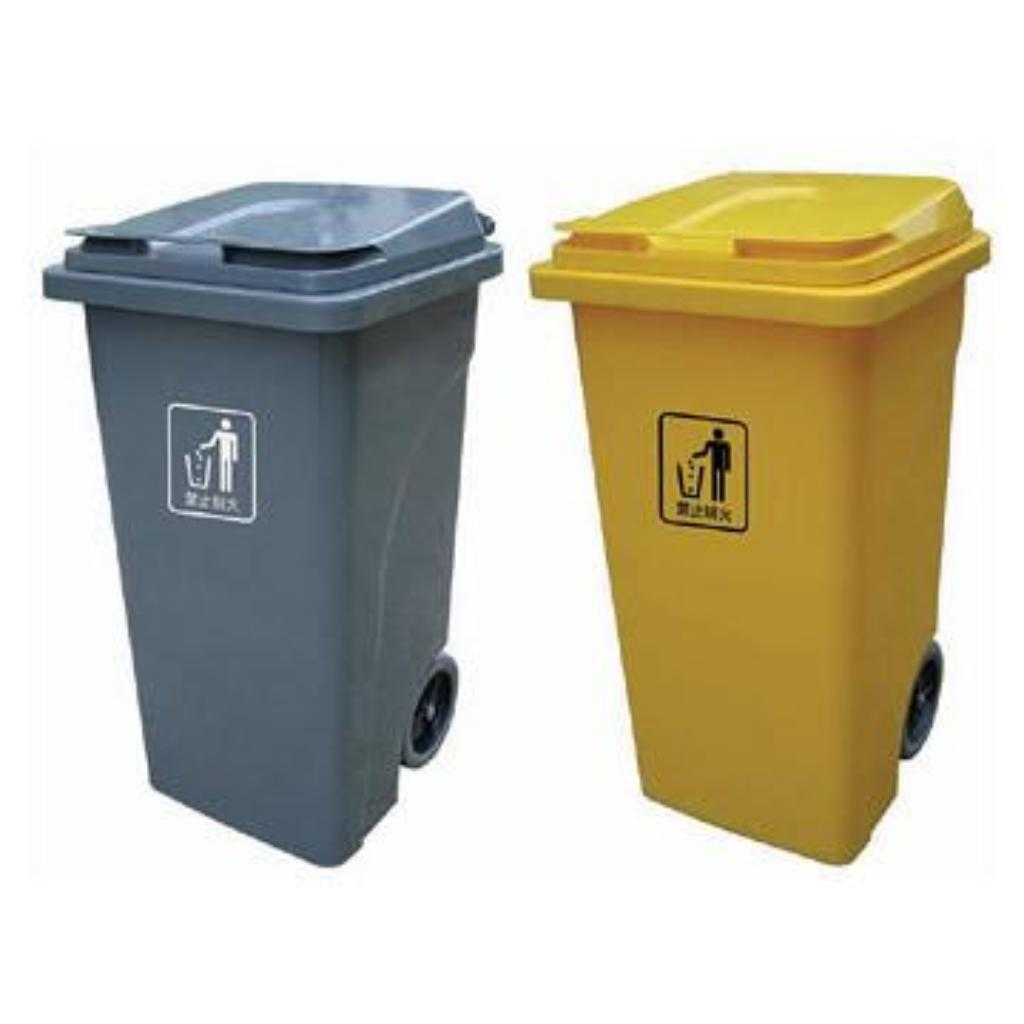dustbin: (47, 169, 501, 841), (531, 165, 985, 837)
